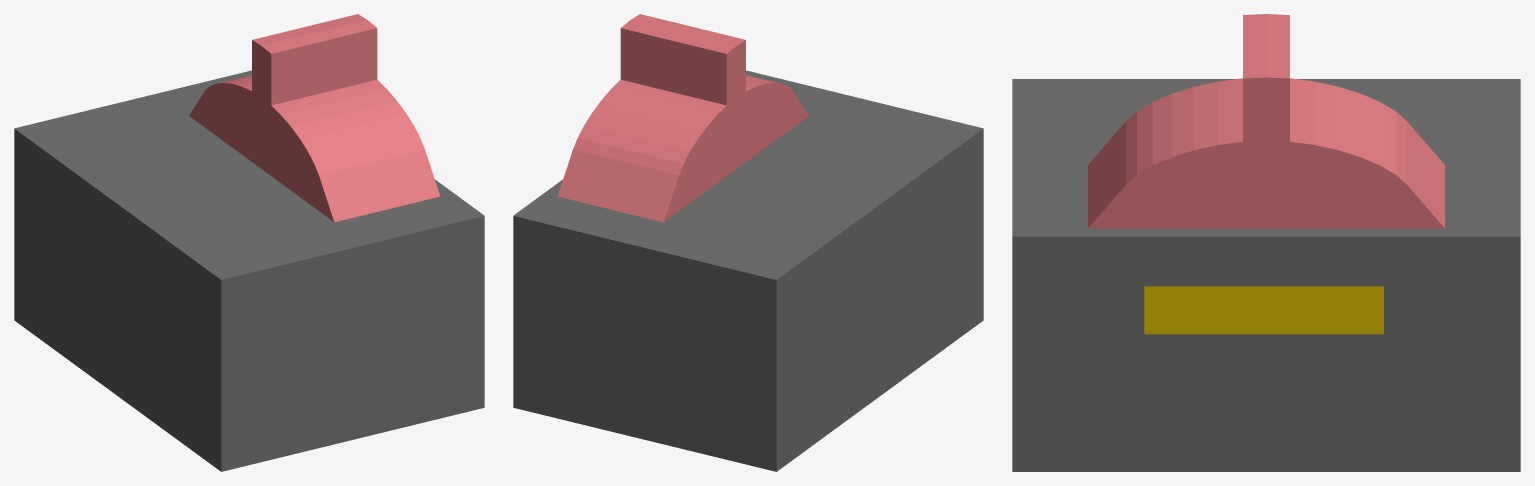
Rendered from Radio.glb.
The picture shows the model from 3 angles, left to right: view 1: azimuth 30°, elevation 25°; view 2: azimuth 150°, elevation 25°; view 3: azimuth 270°, elevation 25°; orthographic projection. The views are drawn at different scales.
Visible parts, largest first — view 1: Cube; view 2: Cube; view 3: Cube.
Boxes of the visible parts, x1,y1,x2,y2 form: Cube: (14, 14, 484, 471); Cube: (513, 14, 983, 471); Cube: (1012, 14, 1520, 471).
Size of the model in its own units: 0.1492 by 0.1704 by 0.2032.
